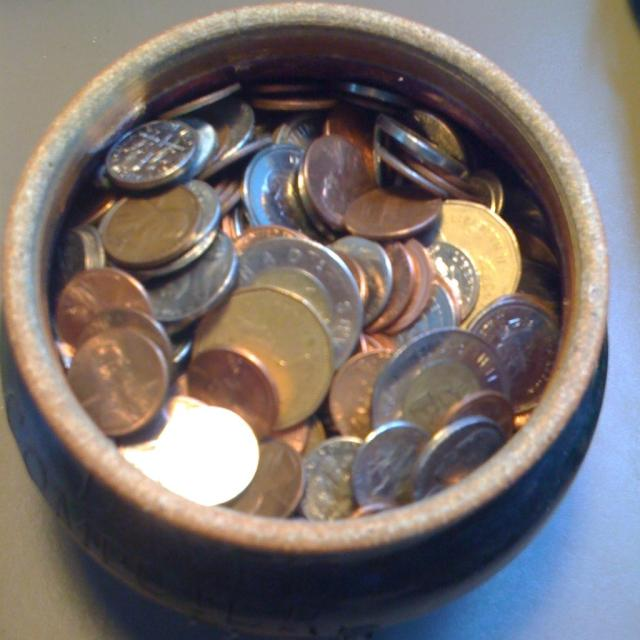Coin: (44, 72, 563, 515)
